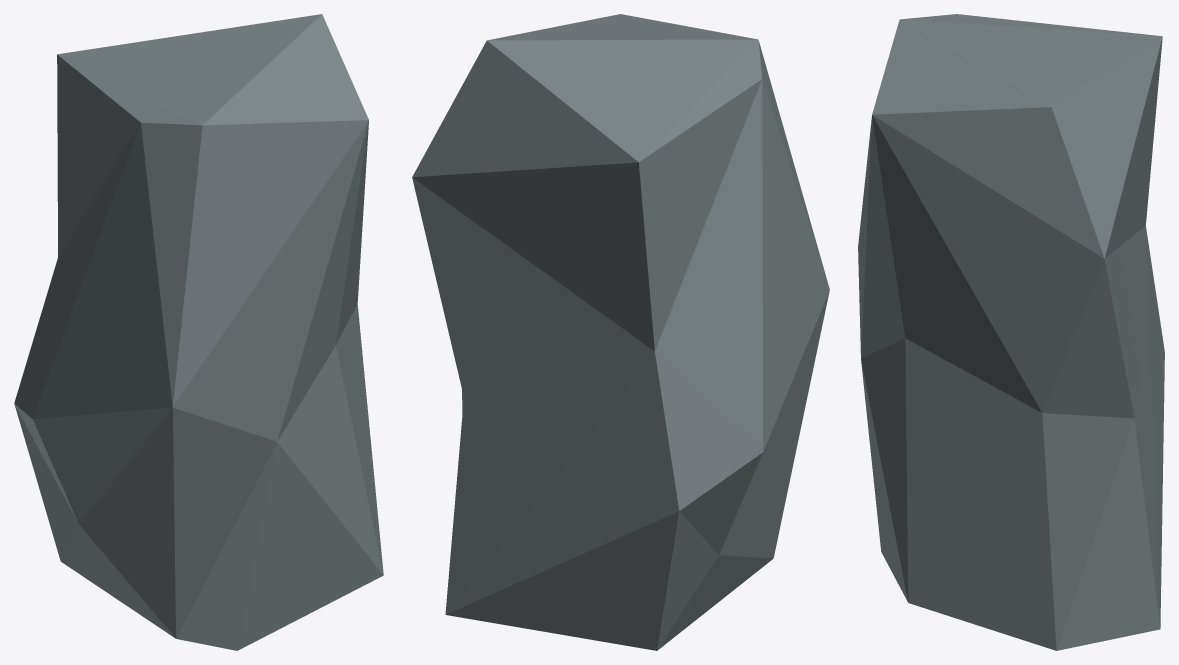
File: BigRock_02.fbx
3 views of the same model, side by side, from view 1: azimuth 30°, elevation 25°; view 2: azimuth 150°, elevation 25°; view 3: azimuth 270°, elevation 25° (orthographic).
Visible parts, largest first — view 1: BigRock_02; view 2: BigRock_02; view 3: BigRock_02.
Boxes of the visible parts, x1,y1,x2,y2 form: BigRock_02: [14, 14, 383, 650]; BigRock_02: [412, 14, 829, 650]; BigRock_02: [858, 14, 1164, 650].
Bounding box in the file's own units: 161 × 259 × 130.
